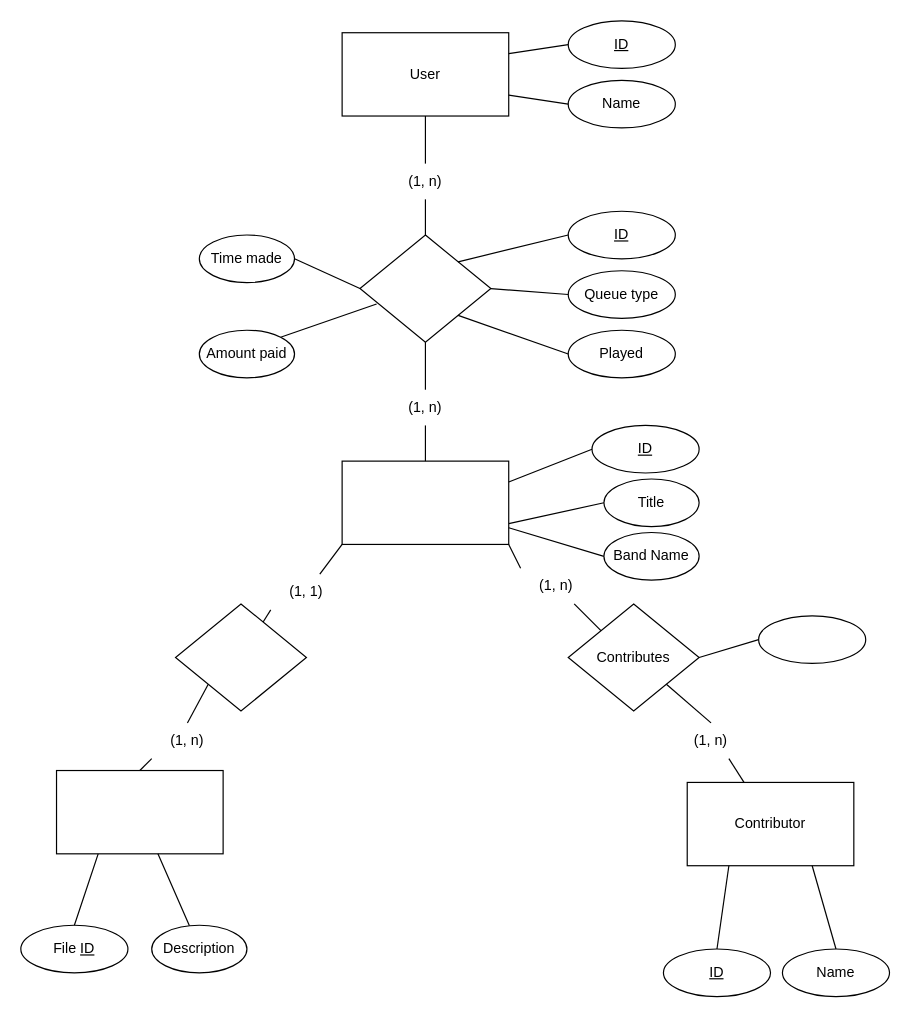
Image size: 910x1017. Some labels were removed from this diagram. Each missing label, with the centre of its shape:
"File" goes at point (139, 811).
"Has" goes at point (240, 657).
"Request Queue" goes at point (425, 288).
"Role" goes at point (811, 639).
"Song" goes at point (425, 502).
